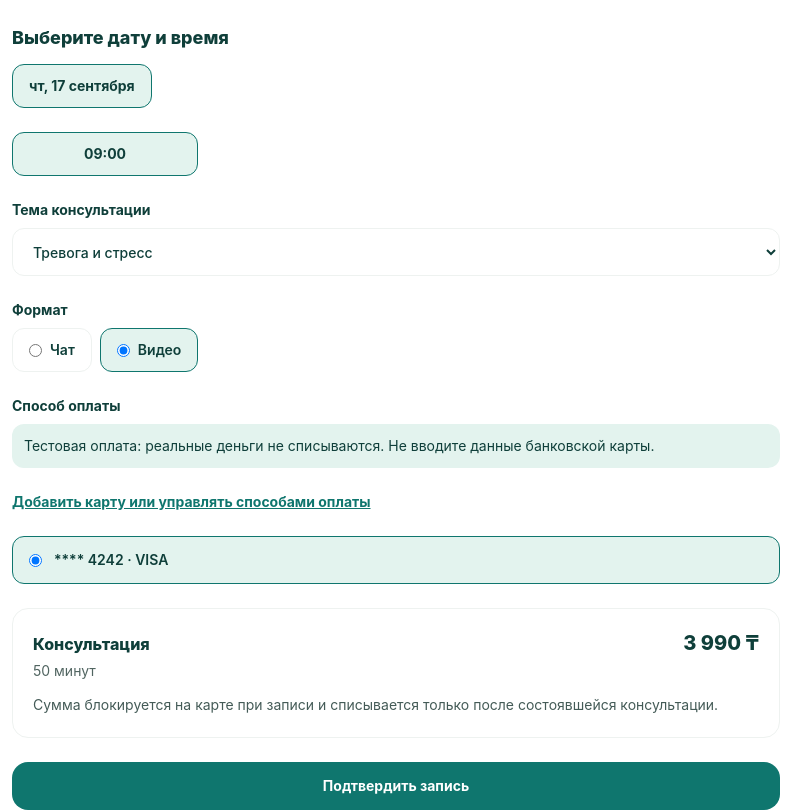
it: BookingFlow › считает ответ 5xx неопределённым исходом мутации
(page scrolled)
Expected: the radio button labelled "09:00" is shown, x1=12 y1=132 x2=198 y2=176
Step 1. Click the button "Подтвердить запись" → {"x": 396, "y": 786}, box x1=12 y1=762 x2=780 y2=809
(page scrolled)
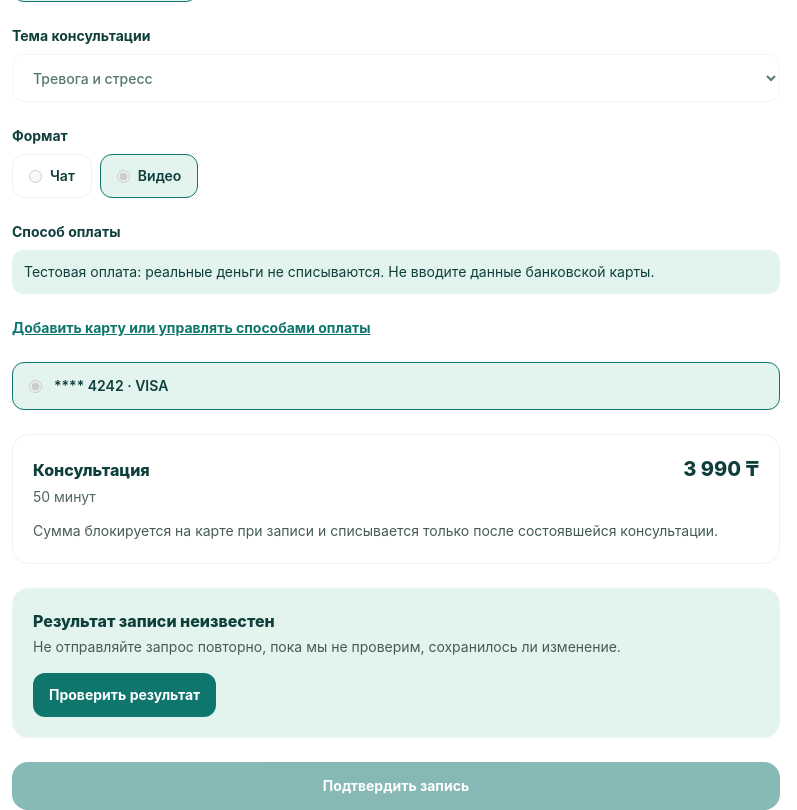
Result: the message "Результат записи неизвестен" is shown at x1=12 y1=588 x2=780 y2=738
Result: the button "Проверить результат" is enabled at x1=33 y1=673 x2=216 y2=717
Result: the button "Подтвердить запись" is disabled at x1=12 y1=762 x2=780 y2=809
